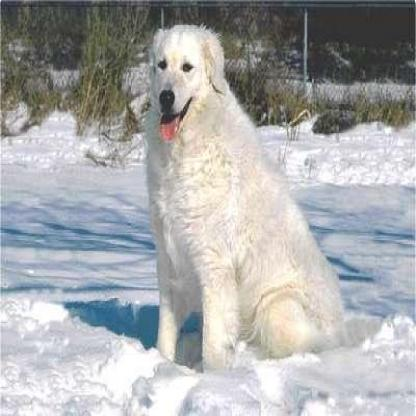kuvasz: (140, 22, 344, 376)
